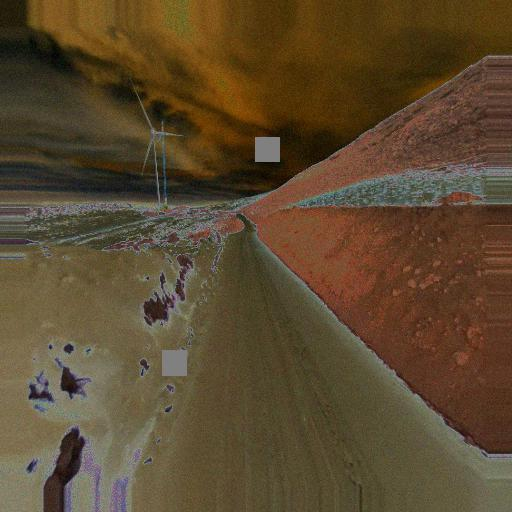wind turbine: (128, 80, 185, 205)
